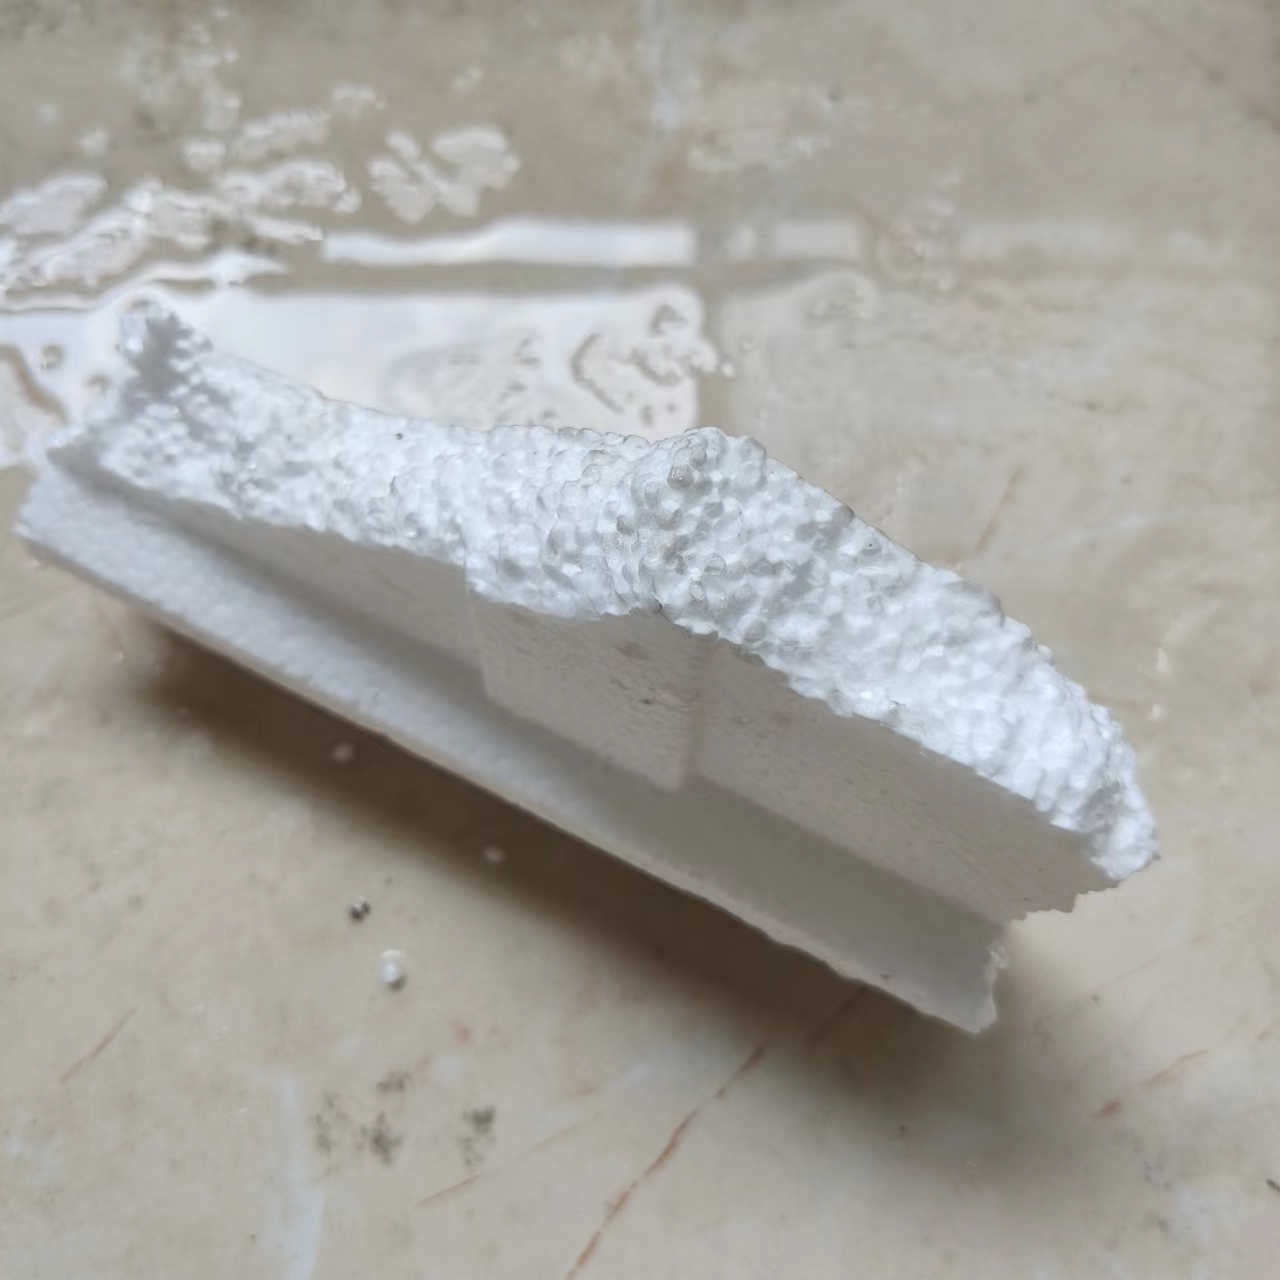5/可回收垃圾/泡沫: (13, 293, 1159, 1037)
